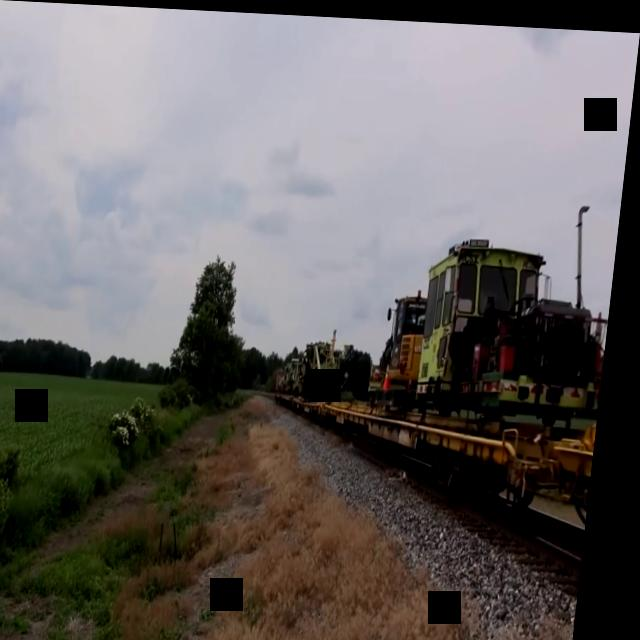cargo: (413, 224, 622, 420), (374, 282, 434, 405)
flatcar: (317, 391, 607, 550)
